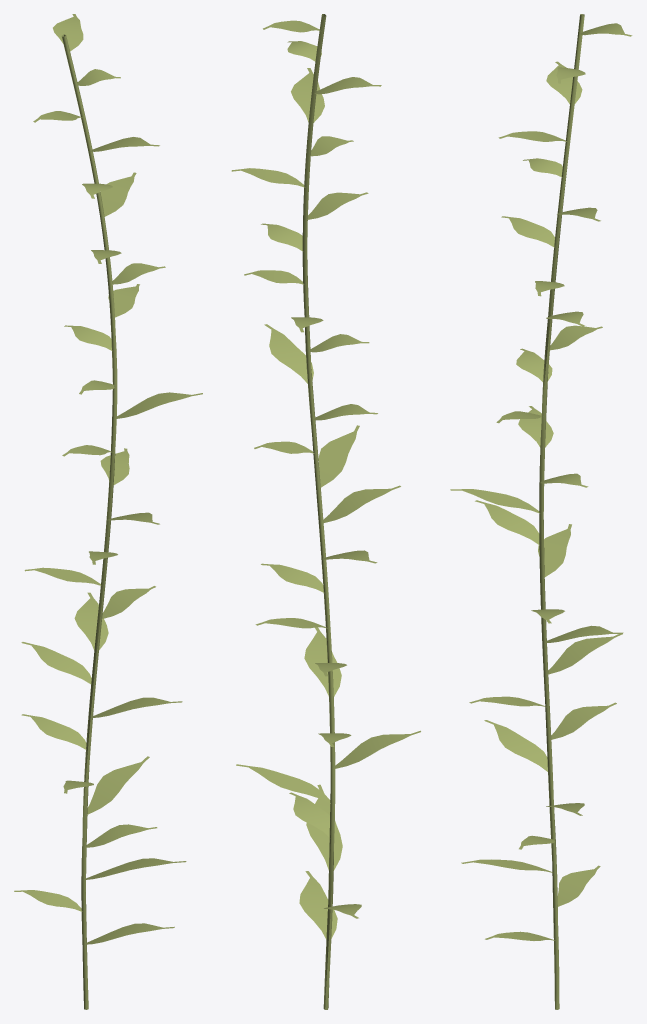
Rendered from kt_kelp_b.glb.
The picture shows the model from 3 angles, left to right: view 1: azimuth 30°, elevation 25°; view 2: azimuth 150°, elevation 25°; view 3: azimuth 270°, elevation 25°; orthographic projection. The views are drawn at different scales.
Parts seen in each view (by area): view 1: kt_kelp; view 2: kt_kelp; view 3: kt_kelp.
Part boxes in pixels (x1,y1,x2,y2): kt_kelp: [14, 14, 202, 1009]; kt_kelp: [231, 14, 420, 1009]; kt_kelp: [450, 14, 632, 1009].
Size of the model in its own units: 2.04 by 13.01 by 2.17.
